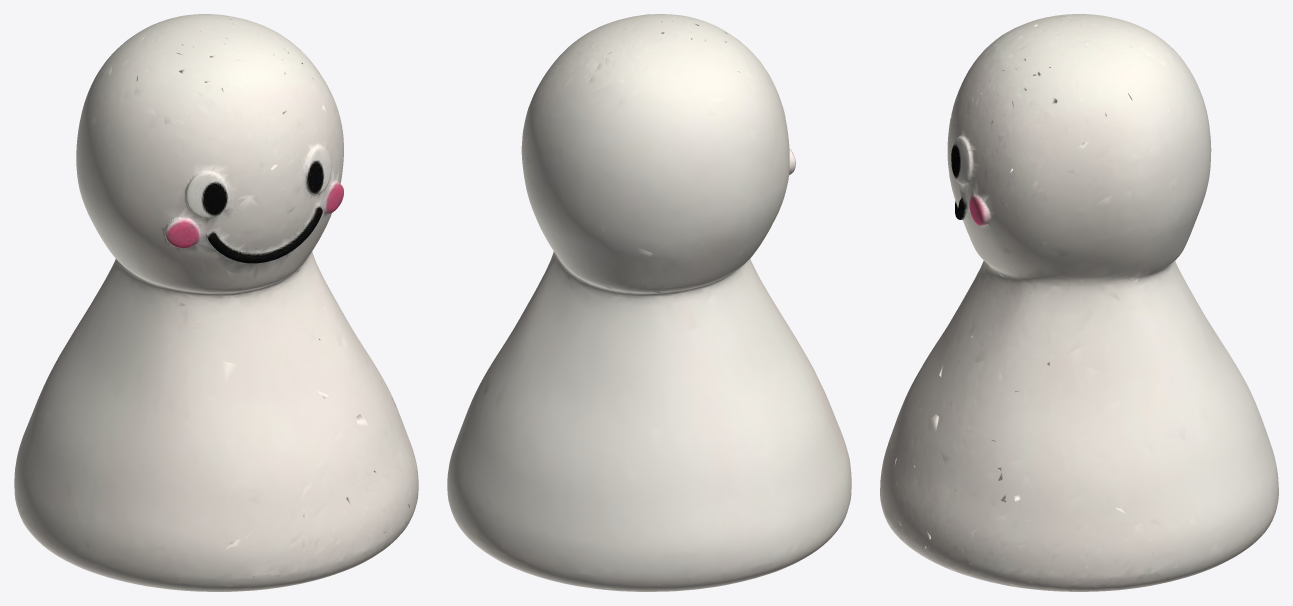
File: lp_pawn.glb
3 renders of one model, left to right at view 1: azimuth 30°, elevation 25°; view 2: azimuth 150°, elevation 25°; view 3: azimuth 270°, elevation 25°, orthographic.
Bounding box in the file's own units: 1.41 × 1.91 × 1.41.
1 material, 1 textured.
